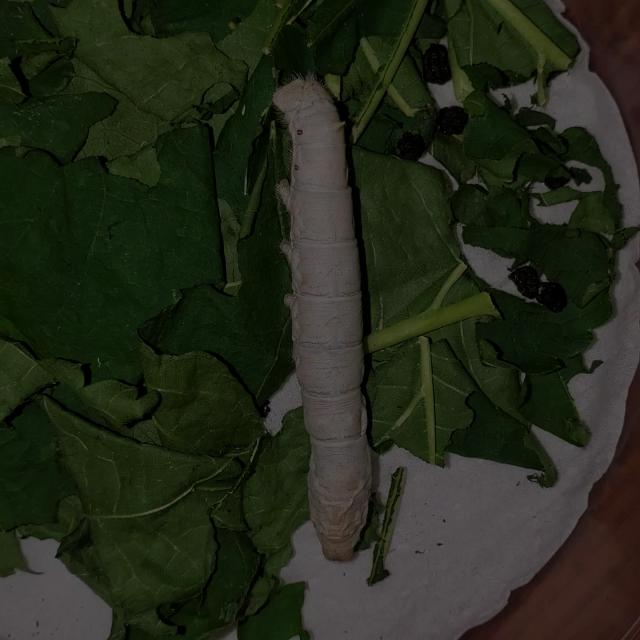Healthy: (237, 58, 405, 591)
